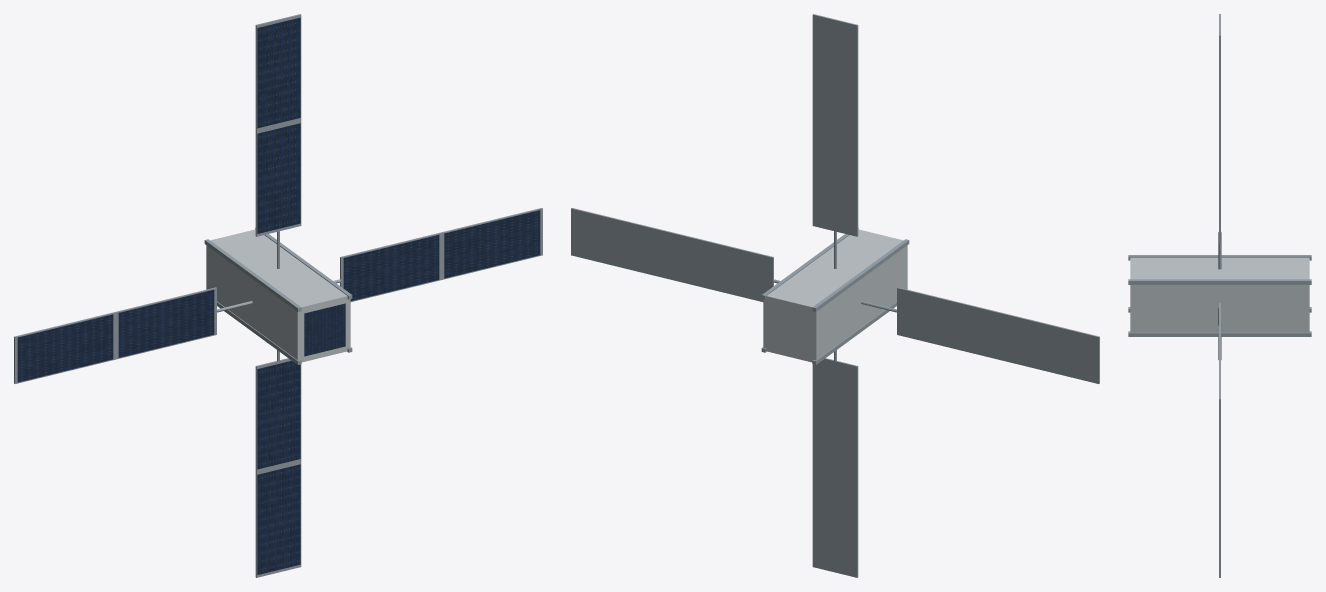
Rendered from ref-cubesat-3u-63260.glb.
3 views of the same model, side by side, from view 1: azimuth 30°, elevation 25°; view 2: azimuth 150°, elevation 25°; view 3: azimuth 270°, elevation 25° (orthographic).
Visible parts, largest first — view 1: Photovoltaic laminates (×8), Spacecraft body, Array frame (×7), Body-mounted cells, Dispenser rail; view 2: Array frame (×8), Spacecraft body, Dispenser rail; view 3: Spacecraft body, Dispenser rail (×3), Array frame.
Boxes of the visible parts, x1,y1,x2,y2 form: Photovoltaic laminates (×8): (17, 17, 540, 574); Spacecraft body: (206, 229, 350, 362); Array frame (×7): (14, 14, 542, 577); Body-mounted cells: (304, 303, 345, 356); Dispenser rail: (204, 239, 301, 311); Array frame (×8): (571, 14, 1099, 577); Spacecraft body: (763, 229, 907, 362); Dispenser rail: (812, 239, 909, 311); Spacecraft body: (1130, 257, 1309, 332); Dispenser rail (×3): (1128, 255, 1311, 336); Array frame: (1219, 14, 1220, 139).
Size of the model in its own units: 1 by 1 by 0.306.
Materials: 3 (1 with a texture image).
